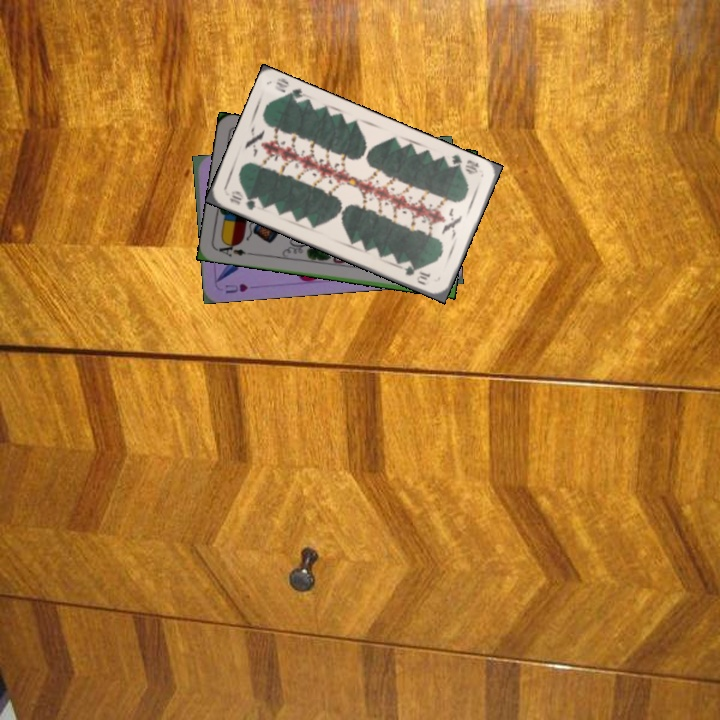EA: (213, 238, 254, 259)
G10: (442, 150, 482, 177), (225, 187, 259, 213)
HU: (221, 280, 250, 296)
